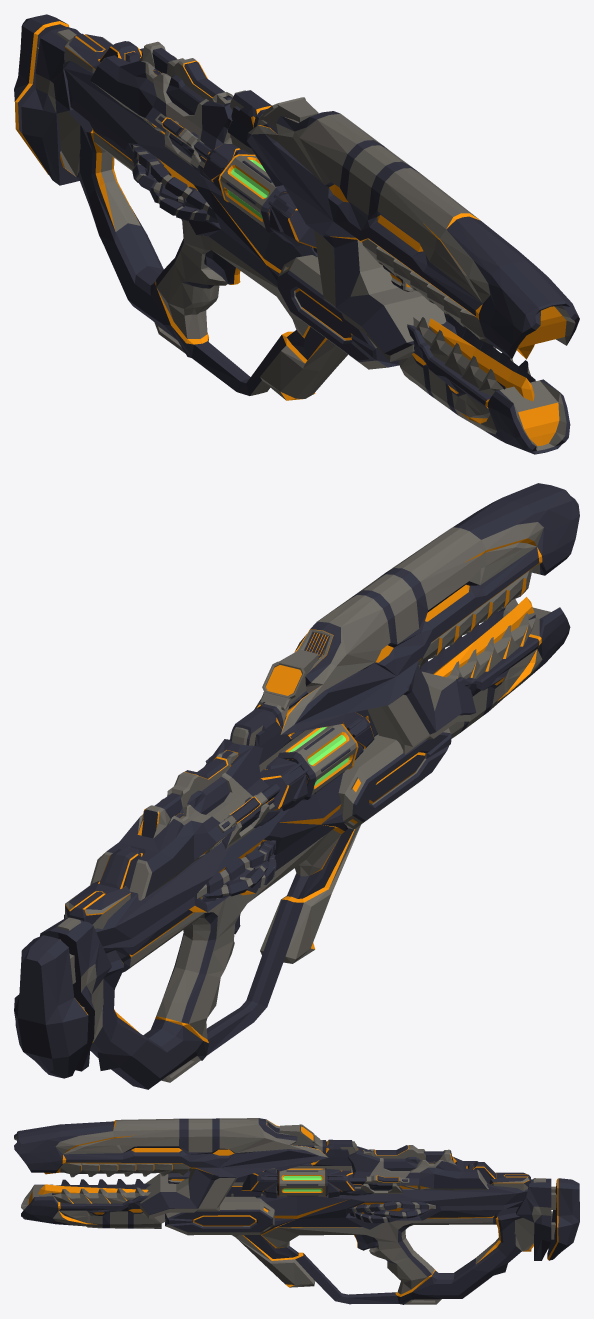
The model's file is VolleyCaster.fbx.
The picture shows the model from 3 angles, top to bottom: view 1: azimuth 30°, elevation 25°; view 2: azimuth 150°, elevation 25°; view 3: azimuth 270°, elevation 25°; orthographic projection. The views are drawn at different scales.
Parts seen in each view (by area): view 1: Base, Lid, RightSpinner; view 2: Base, Lid, RightSpinner; view 3: Base, Lid, LeftSpinner.
Boxes of the visible parts, <box> form: Base: <box>14,14,399,400</box>; Lid: <box>246,97,579,454</box>; RightSpinner: <box>218,154,287,233</box>; Base: <box>14,708,451,1089</box>; Lid: <box>254,483,579,754</box>; RightSpinner: <box>278,724,358,800</box>; Base: <box>165,1139,579,1304</box>; Lid: <box>14,1118,328,1228</box>; LeftSpinner: <box>277,1168,327,1196</box>.
Bounding box in the file's own units: 11.9 × 32.6 × 91.3.
